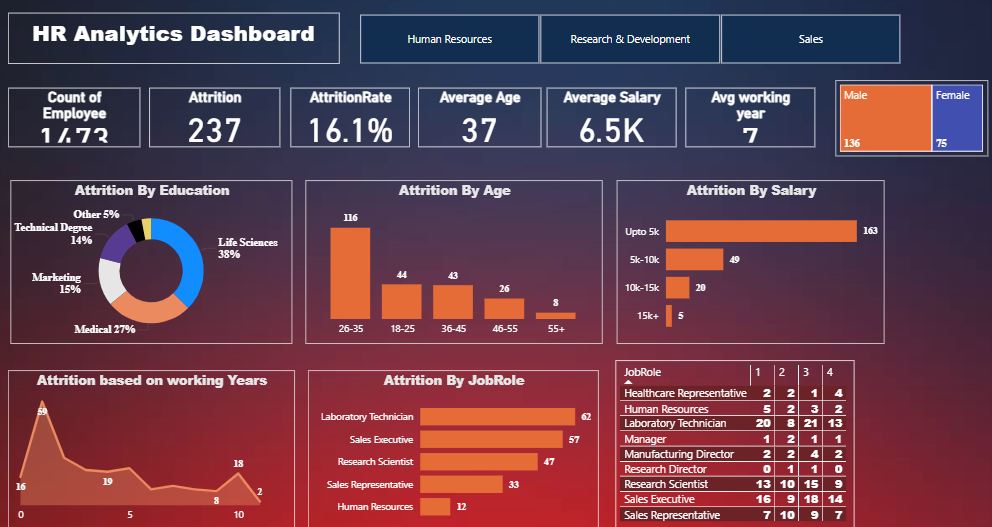

This screenshot's page, from the dashboard's own definition file:
{"tool":"powerbi","page":{"name":"Page 1","canvas":[1280,720],"ordinal":0},"visuals":[{"type":"card","title":"Count of Employee","fields":{"Values":["CountNonNull(HR_Analytics.EmpID)"]},"box":[25.4,136.8,165.4,74.7],"z":0},{"type":"card","title":"Attrition","fields":{"Values":["Sum(HR_Analytics.attritionCount)"]},"box":[201.9,136.8,163.8,74.7],"z":1000},{"type":"card","title":"AttritionRate","fields":{"Values":["HR_Analytics.Attrition Rate"]},"box":[378.4,136.8,149.5,74.7],"z":2000},{"type":"card","title":"Average Age","fields":{"Values":["Avg(HR_Analytics.Age)"]},"box":[539,136.8,154.2,74.7],"z":3000},{"type":"card","title":"Average Salary","fields":{"Values":["Avg(HR_Analytics.MonthlyIncome)"]},"box":[699.7,136.8,162.2,74.7],"z":4000},{"type":"card","title":"Avg working year","fields":{"Values":["Avg(HR_Analytics.YearsAtCompany)"]},"box":[873,136.8,162.2,74.7],"z":5000},{"type":"donutChart","title":"Attrition By Education","fields":{"Category":["HR_Analytics.EducationField"],"Y":["Sum(HR_Analytics.attritionCount)"]},"box":[28.6,251.2,353,205.1],"z":6000},{"type":"columnChart","title":"Attrition By Age","fields":{"Category":["HR_Analytics.AgeGroup"],"Y":["Sum(HR_Analytics.attritionCount)"]},"box":[397.5,251.2,372.1,205.1],"z":7000},{"type":"pivotTable","fields":{"Rows":["HR_Analytics.JobRole"],"Columns":["HR_Analytics.JobSatisfaction"],"Values":["Sum(HR_Analytics.attritionCount)"]},"box":[785.5,477,298.9,224.2],"z":8000},{"type":"clusteredBarChart","title":"Attrition By Salary","fields":{"Category":["HR_Analytics.SalarySlab"],"Y":["Sum(HR_Analytics.attritionCount)"]},"box":[787.1,251.2,335.5,205.1],"z":8001},{"type":"clusteredBarChart","title":"Attrition By JobRole","fields":{"Category":["HR_Analytics.JobRole"],"Y":["Sum(HR_Analytics.attritionCount)"]},"box":[400.7,489.8,364.1,200.4],"z":8002},{"type":"areaChart","title":"Attrition based on working Years","fields":{"Category":["HR_Analytics.YearsAtCompany"],"Y":["Sum(HR_Analytics.attritionCount)"]},"box":[25.4,489.8,359.4,200.4],"z":8003},{"type":"slicer","fields":{"Values":["HR_Analytics.Department"]},"box":[440.5,38.2,726.7,74.7],"z":8004},{"type":"treemap","fields":{"Group":["HR_Analytics.Gender"],"Values":["Sum(HR_Analytics.attritionCount)"]},"box":[1060.6,127.2,190.8,95.4],"z":8005},{"type":"textbox","box":[25.4,42.9,415,63.6],"z":8006}]}

Visuals, with their boxes on the page's 1280x720 design canvas (x1, y1, x2, y2). These are canvas units, not pixel positions in the 992x527 screenshot, which may show the page scaled, cropped or inside an application window:
"Count of Employee" card: 25 137 191 212
"Attrition" card: 202 137 366 212
"AttritionRate" card: 378 137 528 212
"Average Age" card: 539 137 693 212
"Average Salary" card: 700 137 862 212
"Avg working year" card: 873 137 1035 212
"Attrition By Education" donutChart: 29 251 382 456
"Attrition By Age" columnChart: 398 251 770 456
pivotTable - HR_Analytics.JobRole x HR_Analytics.JobSatisfaction: 786 477 1084 701
"Attrition By Salary" clusteredBarChart: 787 251 1123 456
"Attrition By JobRole" clusteredBarChart: 401 490 765 690
"Attrition based on working Years" areaChart: 25 490 385 690
slicer - HR_Analytics.Department: 440 38 1167 113
treemap - HR_Analytics.Gender x Sum(HR_Analytics.attritionCount): 1061 127 1251 223
textbox: 25 43 440 106
